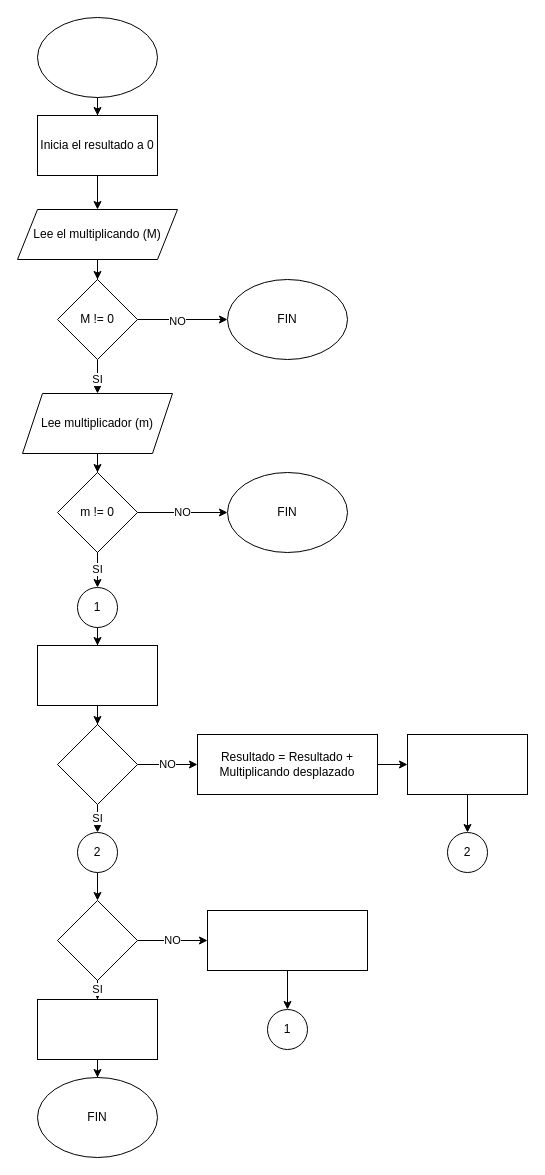
Some shapes in this 545 by 1175 pixel diagram are drawn without their labels. The shapes that lost their labels are listed below. From the top down, each one's centre as x and y in pixels, then its label:
At point 97,57: "Inicio 1000H".
At point 97,675: "Desplaza a la derecha el multiplicador con acarreo".
At point 97,764: "CY != 1".
At point 467,764: "INVERTIR CY".
At point 97,940: "m == 0".
At point 287,940: "Desplaza a la izquierda el multiplicando con acarreo".
At point 97,1029: "Guarda el resultado en memoria".
